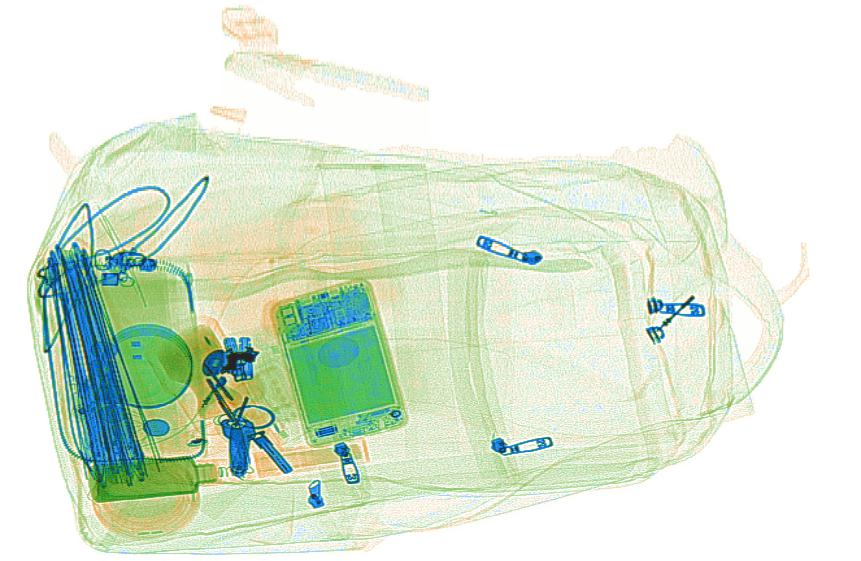seal: (154, 321, 245, 421)
